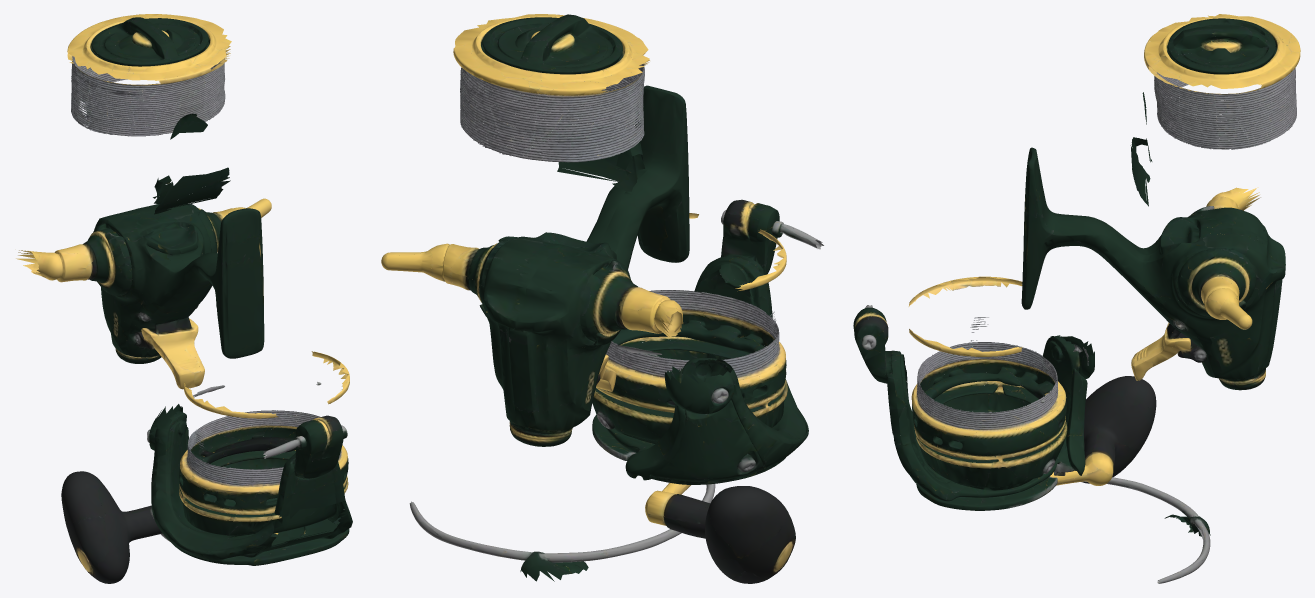
The model's file is baitrunner_fjordline.glb.
The picture shows the model from 3 angles, left to right: view 1: azimuth 30°, elevation 25°; view 2: azimuth 150°, elevation 25°; view 3: azimuth 270°, elevation 25°; orthographic projection. The views are drawn at different scales.
Visible parts, largest first — view 1: Body, Rotor, Crank; view 2: Body, Rotor, Crank, Bail; view 3: Body, Rotor, Crank, Bail.
Boxes of the visible parts, <box> form: Body: <box>16,14,271,389</box>; Rotor: <box>147,351,352,565</box>; Crank: <box>61,471,278,583</box>; Body: <box>381,14,689,446</box>; Rotor: <box>592,199,823,484</box>; Crank: <box>645,483,795,583</box>; Bail: <box>409,484,715,581</box>; Body: <box>1021,14,1300,390</box>; Rotor: <box>853,276,1094,510</box>; Crank: <box>1050,376,1156,485</box>; Bail: <box>1083,477,1210,583</box>.
Bounding box in the file's own units: 0.1265 × 0.2049 × 0.1642.
Materials: 1 (1 with a texture image).
